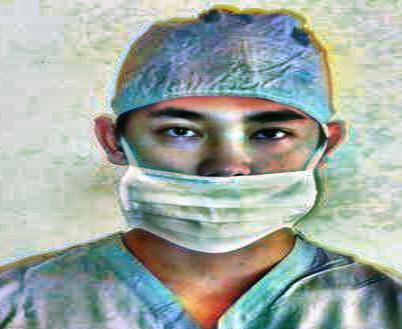mask_weared_incorrect: (98, 9, 348, 252)
